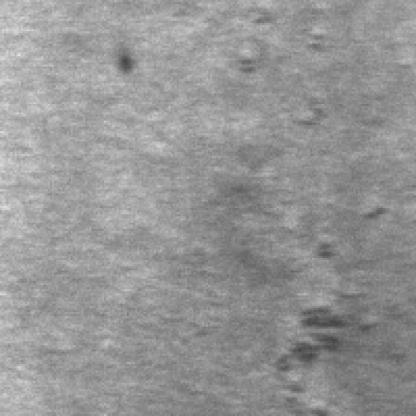rolled-in_scale: (278, 229, 380, 414), (242, 0, 333, 118)
